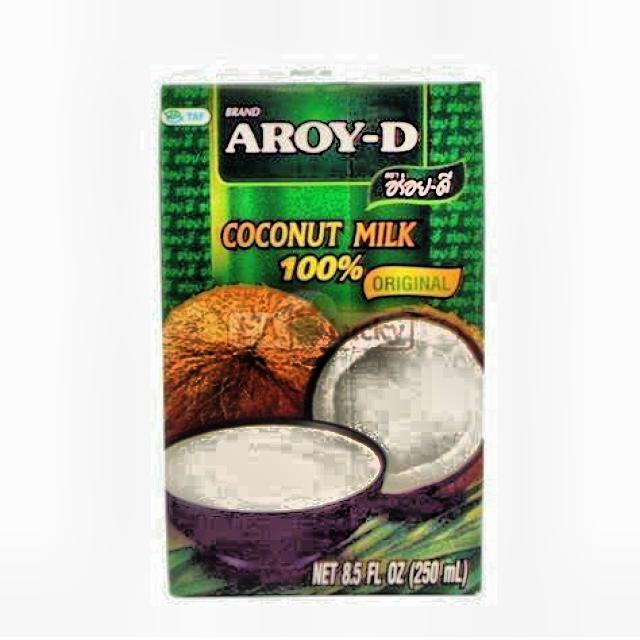cardboard: (158, 80, 486, 596)
